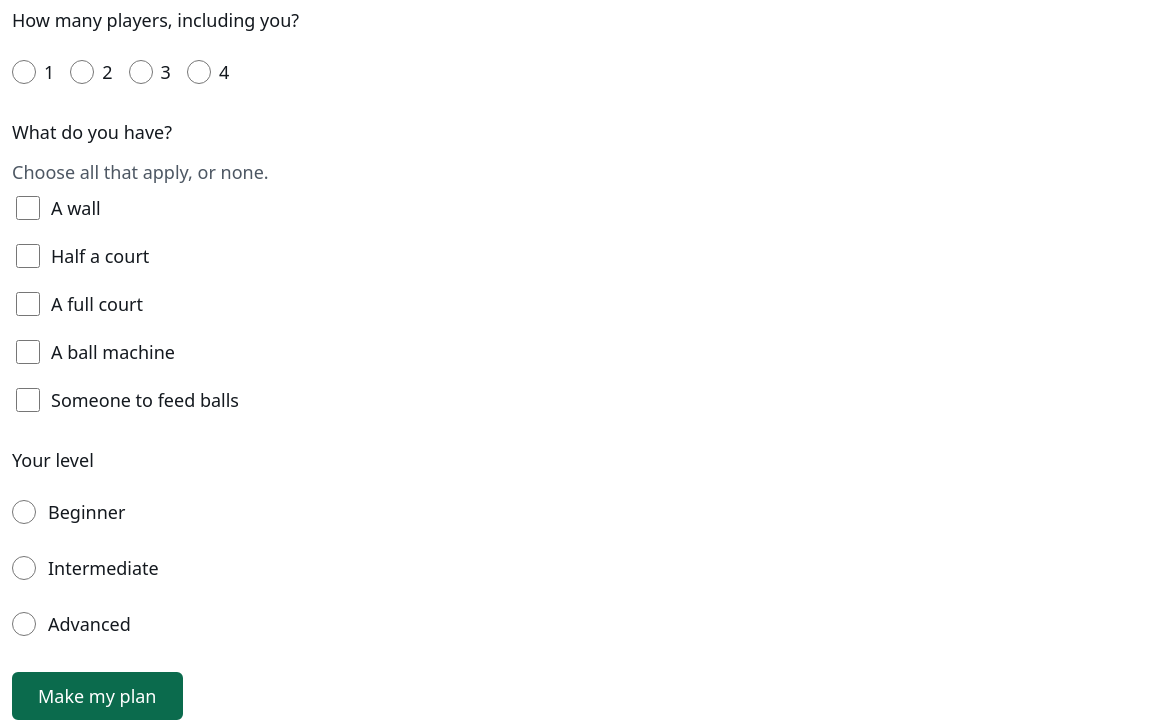
Test: P-02 validation (negative first) › an empty first visit names each unanswered question and chooses nothing for the player
(page scrolled)
Click the button "Make my plan" at (97, 696), box [12, 672, 182, 719]
(page scrolled)
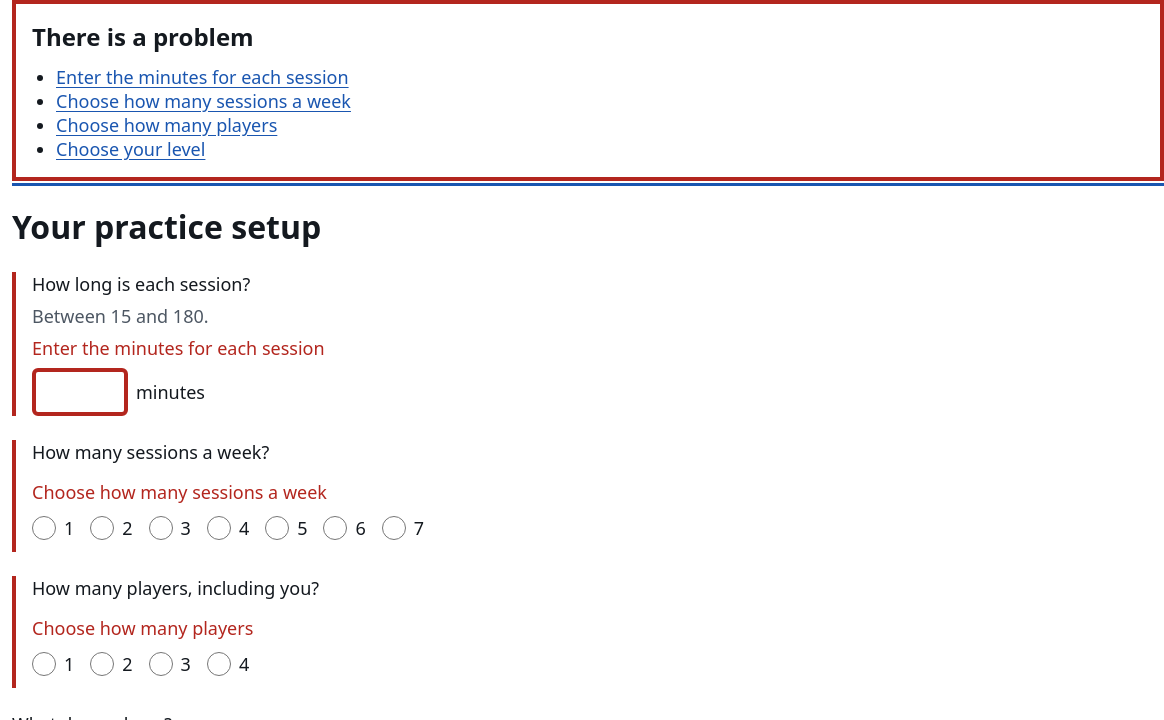
Expected: the links read "Enter the minutes for each session", "Choose how many sessions a week", "Choose how many players", "Choose your level", in this order, [56, 65, 349, 89]; [56, 89, 351, 113]; [56, 113, 277, 137]; [56, 137, 205, 161]
